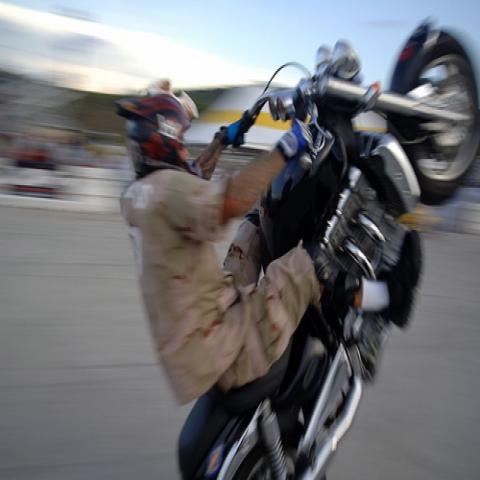motorcycle: (175, 16, 479, 478)
